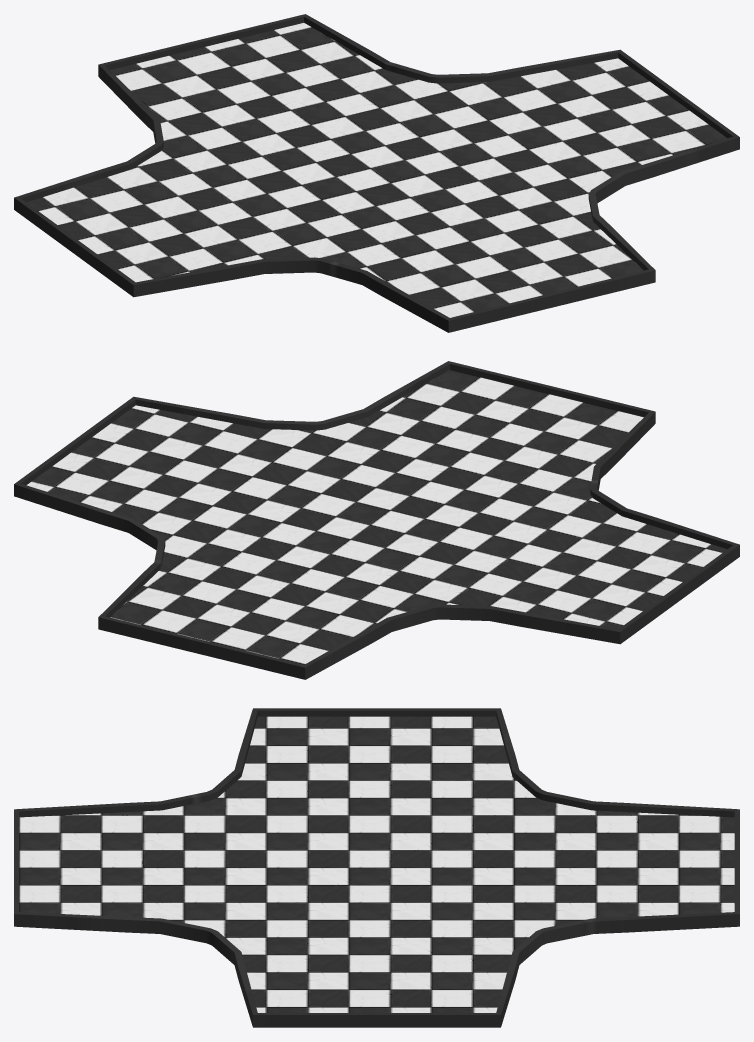
Rendered from stadium_01.FBX.
3 views of the same model, one above another, from view 1: azimuth 30°, elevation 25°; view 2: azimuth 150°, elevation 25°; view 3: azimuth 270°, elevation 25° (orthographic). The views are drawn at different scales.
Visible parts, largest first — view 1: stadium_01; view 2: stadium_01; view 3: stadium_01.
Part boxes in pixels (<box>): stadium_01: <box>14,14,739,332</box>; stadium_01: <box>14,361,739,679</box>; stadium_01: <box>14,708,739,1027</box>.
Size of the model in its own units: 10.15 by 0.1943 by 10.15.
